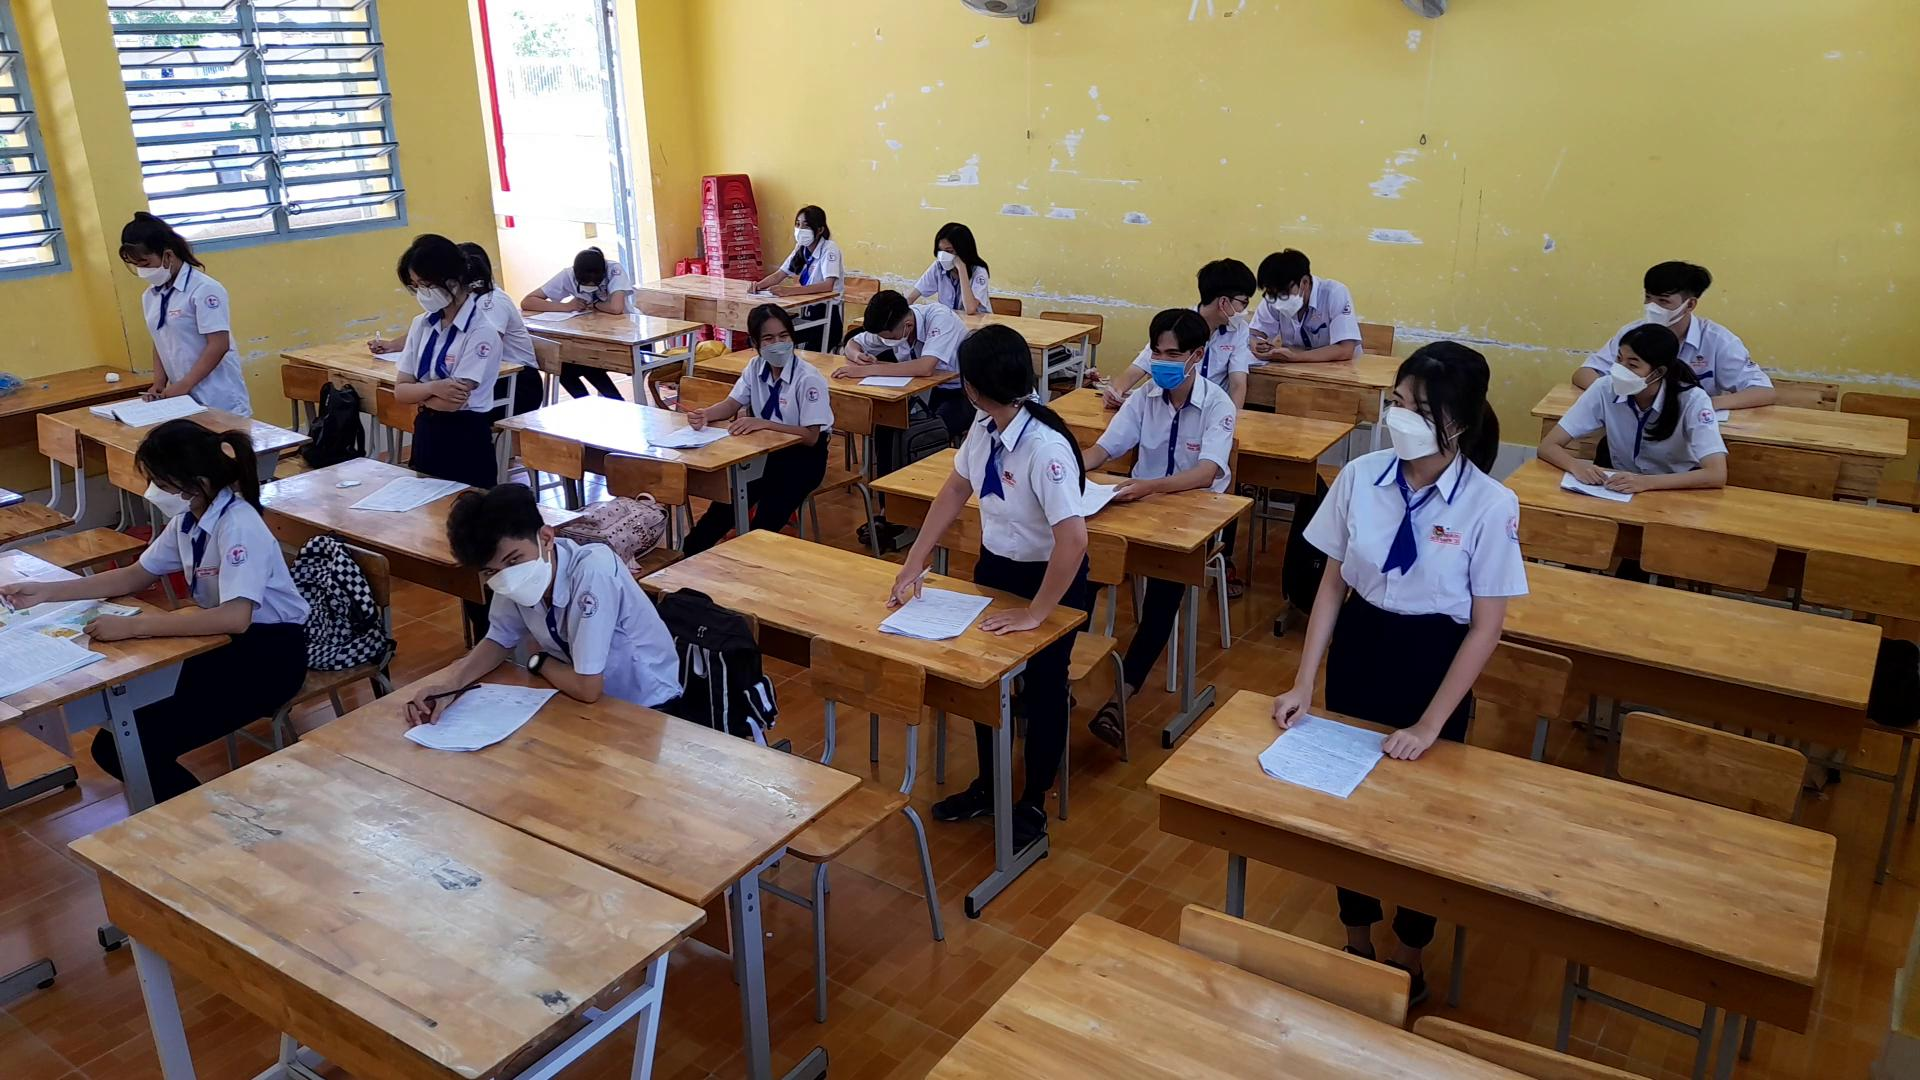Look Around: (1185, 247, 1255, 326)
Normal: (378, 479, 687, 727), (0, 411, 316, 645), (1530, 310, 1735, 508), (1077, 305, 1233, 506), (675, 293, 837, 446), (740, 189, 855, 303)
Stand Up: (1265, 324, 1542, 765), (880, 313, 1097, 636), (109, 200, 253, 409), (386, 228, 504, 479)
Wave: (947, 251, 986, 314)
